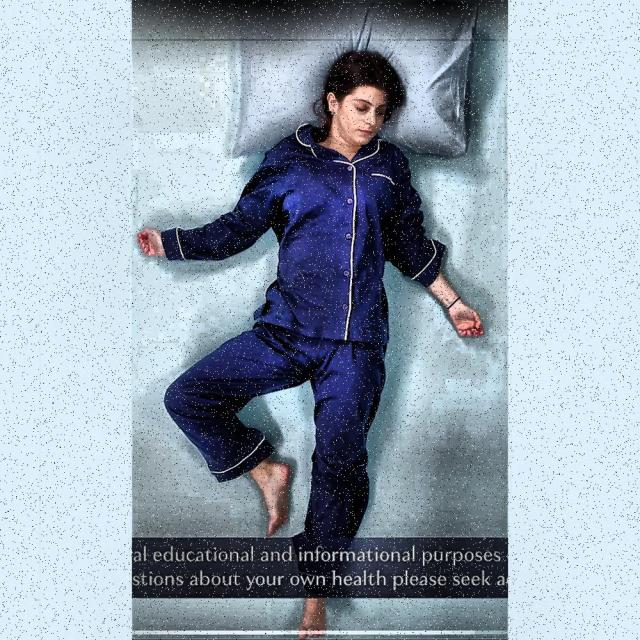Supine: (139, 51, 484, 554)
